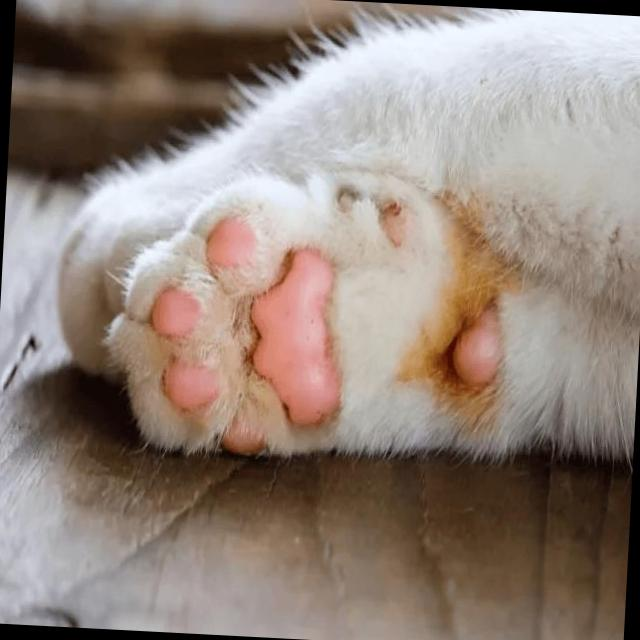Healthy skin: (369, 26, 640, 203), (524, 252, 628, 414), (344, 270, 446, 404), (243, 108, 337, 198)
